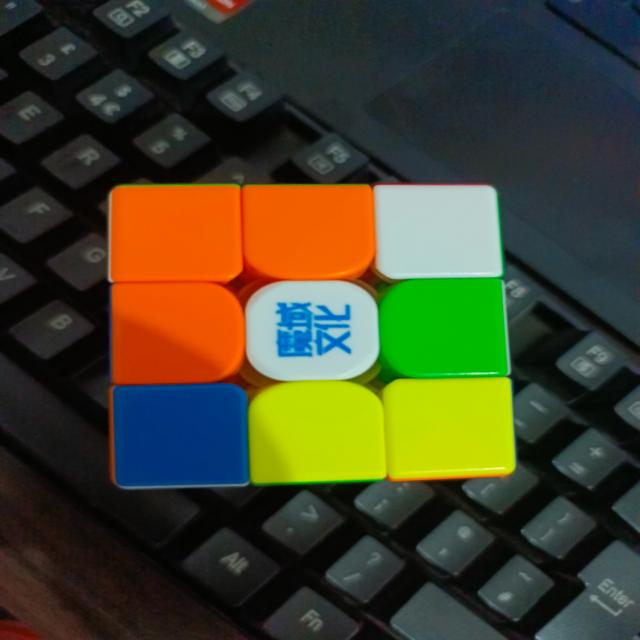rubik: (106, 181, 516, 489)
